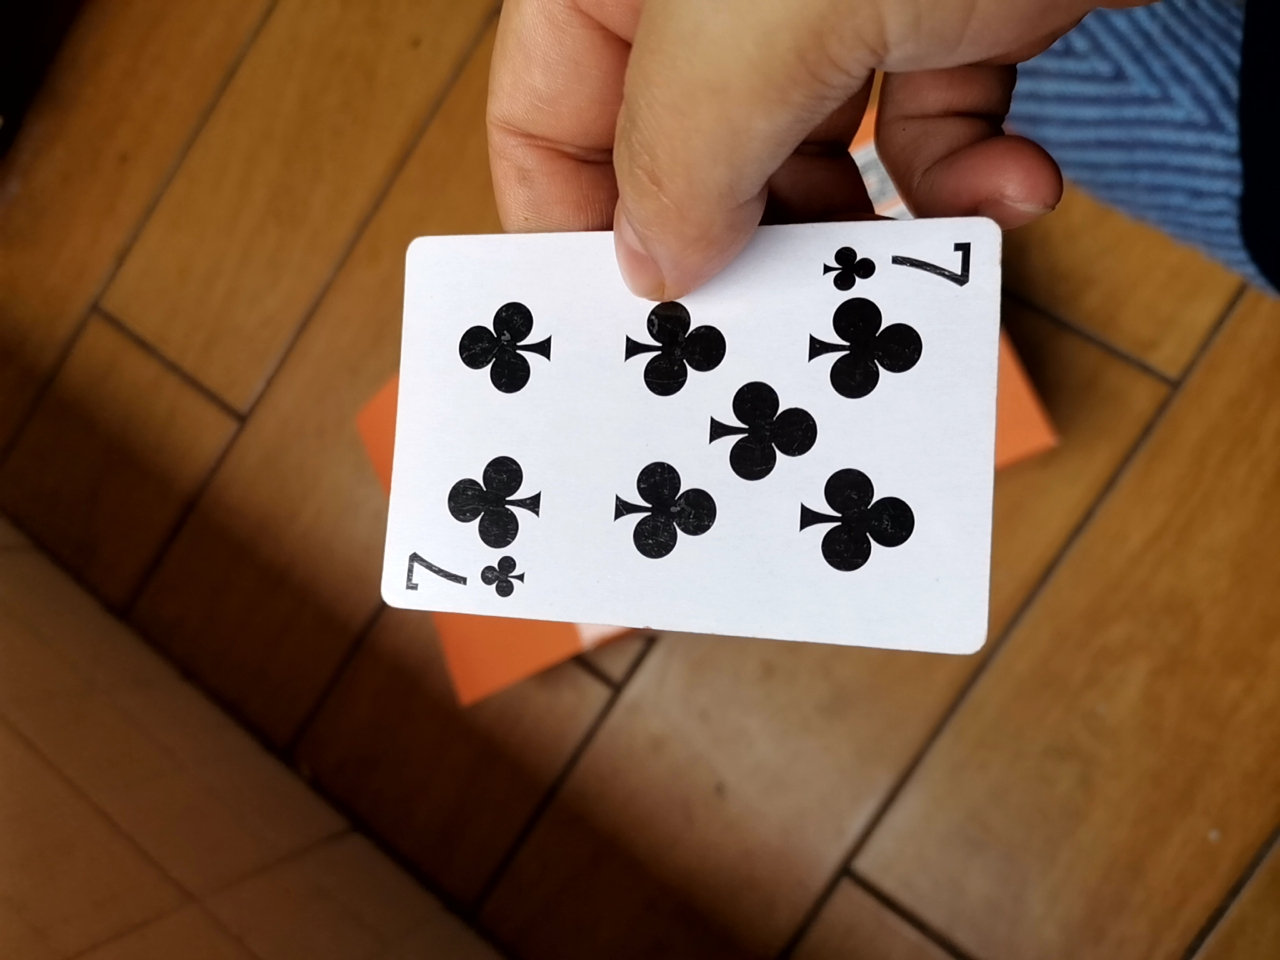mh 7: (377, 196, 996, 645)
